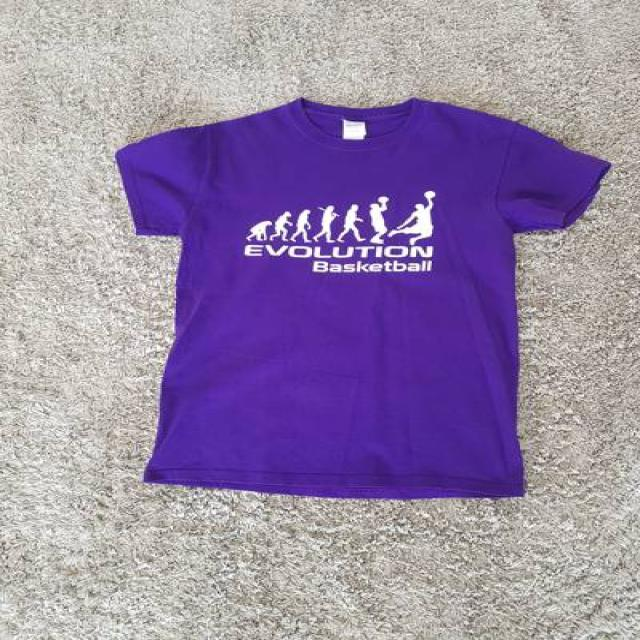shirt: (112, 98, 608, 499)
